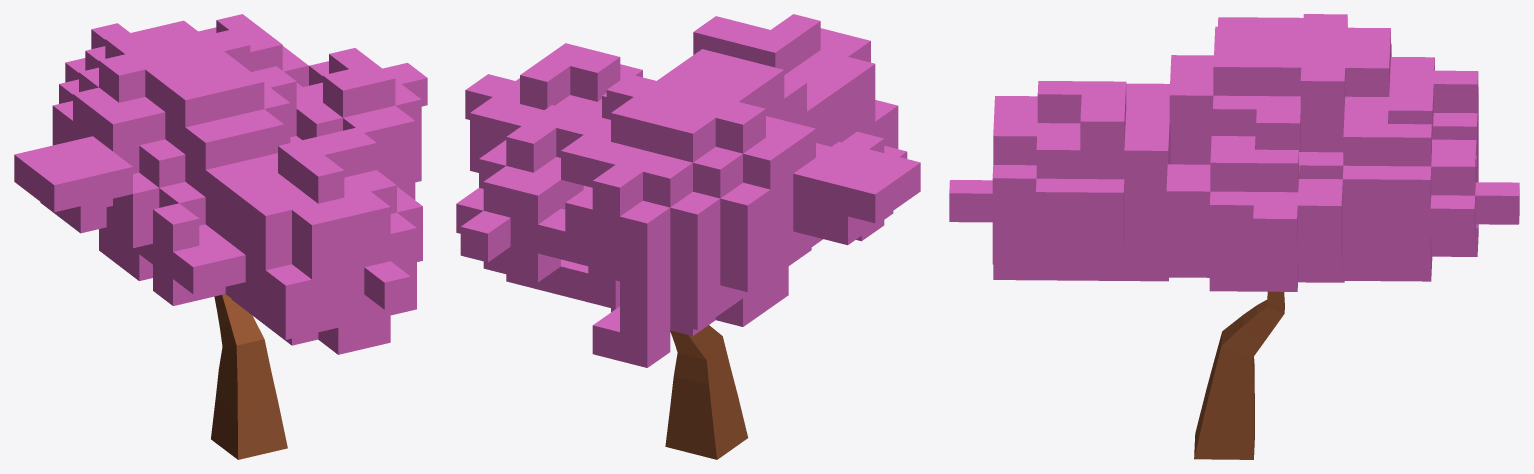
The model's file is sakura.fbx.
3 renders of one model, left to right at view 1: azimuth 30°, elevation 25°; view 2: azimuth 150°, elevation 25°; view 3: azimuth 270°, elevation 25°, orthographic. The views are drawn at different scales.
Visible parts, largest first — view 1: Sakura; view 2: Sakura; view 3: Sakura.
Part boxes in pixels (x1,y1,x2,y2): Sakura: (14, 14, 427, 459); Sakura: (456, 14, 920, 459); Sakura: (949, 14, 1519, 459).
Size of the model in its own units: 2916 by 2593 by 3481.
